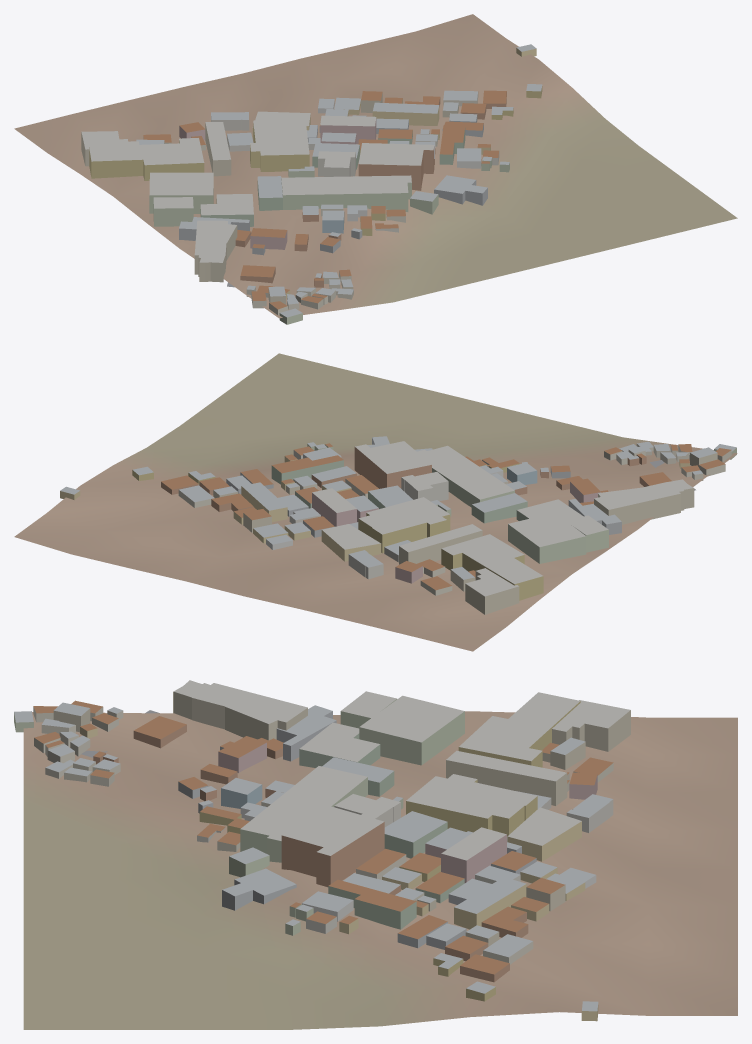
3 views of the same model, one above another, from view 1: azimuth 30°, elevation 25°; view 2: azimuth 150°, elevation 25°; view 3: azimuth 270°, elevation 25° (orthographic). The views are drawn at different scales.
Parts seen in each view (by area): view 1: Lo; view 2: Lo; view 3: Lo.
Part boxes in pixels (box(x1,y1,x2,y2)): Lo: box(14, 14, 737, 324); Lo: box(14, 353, 737, 651); Lo: box(14, 680, 737, 1029).
Bounding box in the file's own units: 269 × 19.39 × 259.
